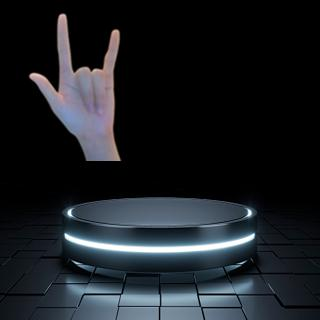ILY: (28, 11, 126, 141)
